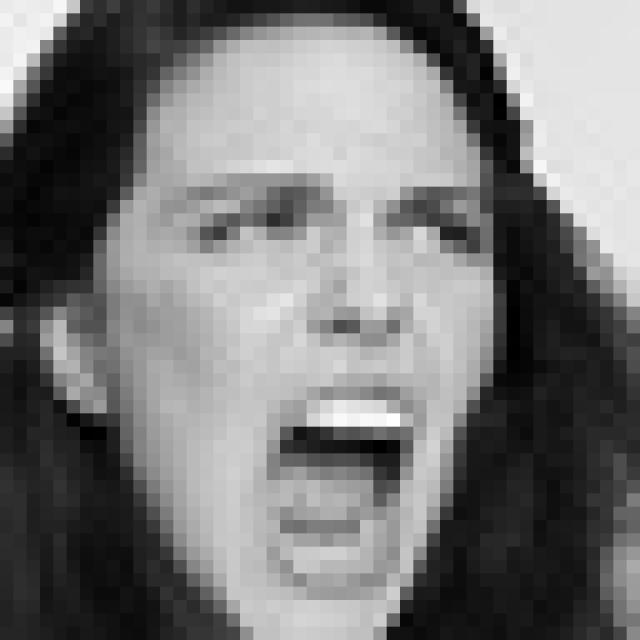angry: (138, 152, 497, 600)
